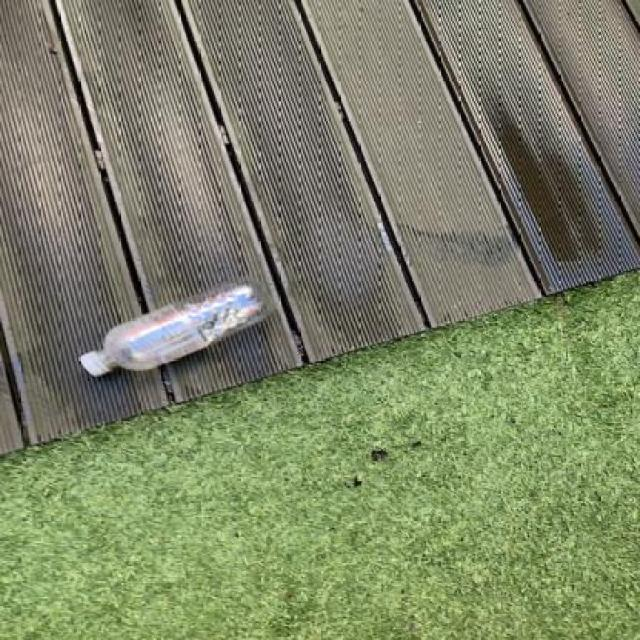trash: (77, 276, 280, 379)
